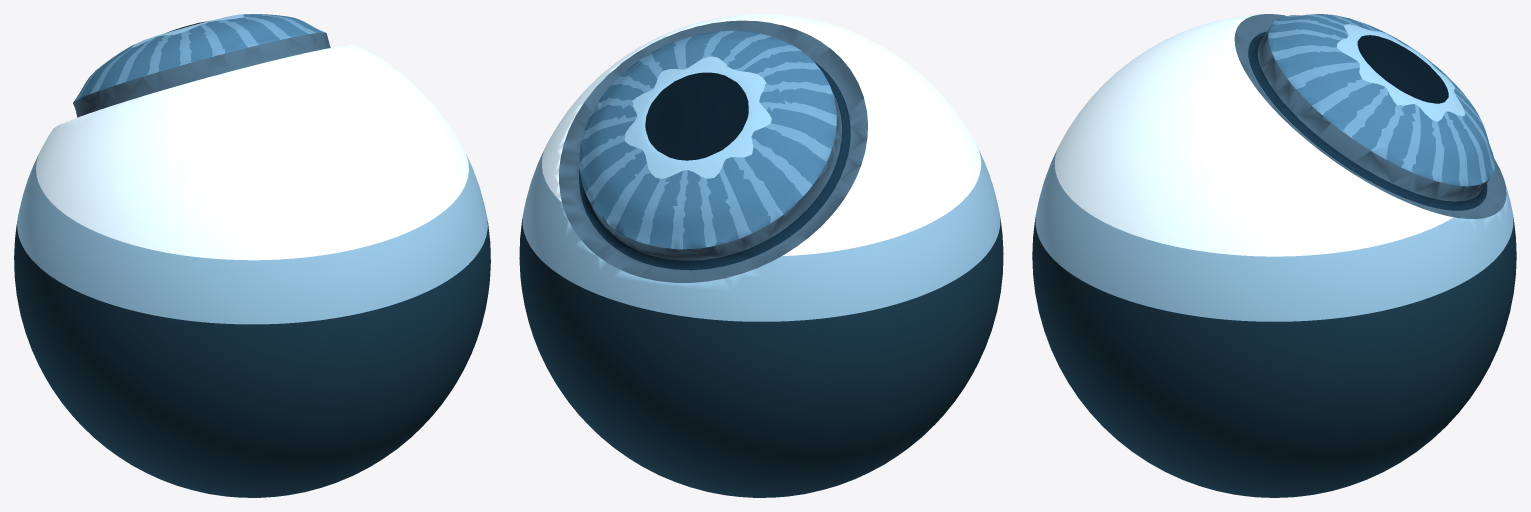
File: face_eye.glb
3 views of the same model, side by side, from view 1: azimuth 30°, elevation 25°; view 2: azimuth 150°, elevation 25°; view 3: azimuth 270°, elevation 25° (orthographic).
Parts seen in each view (by area): view 1: face_eye; view 2: face_eye; view 3: face_eye.
Boxes of the visible parts, x1,y1,x2,y2 form: face_eye: [14, 14, 490, 497]; face_eye: [519, 14, 1003, 497]; face_eye: [1032, 14, 1516, 497].
Bounding box in the file's own units: 20.9 × 21.13 × 20.9.
